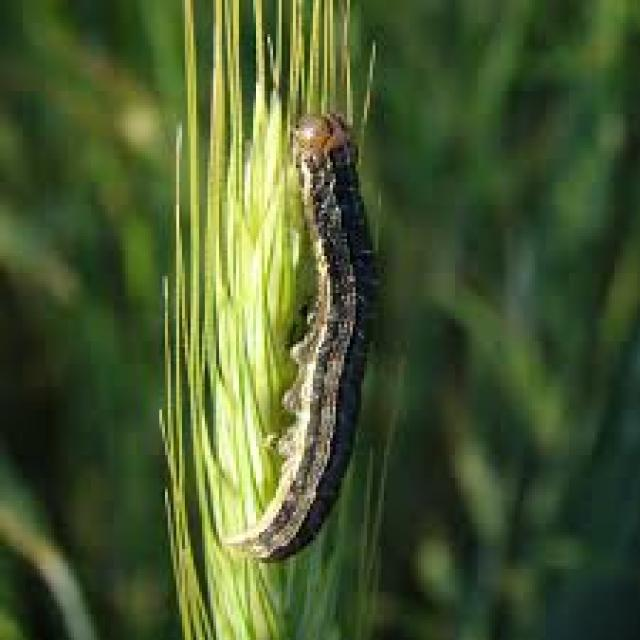armyworm: (229, 111, 384, 566)
